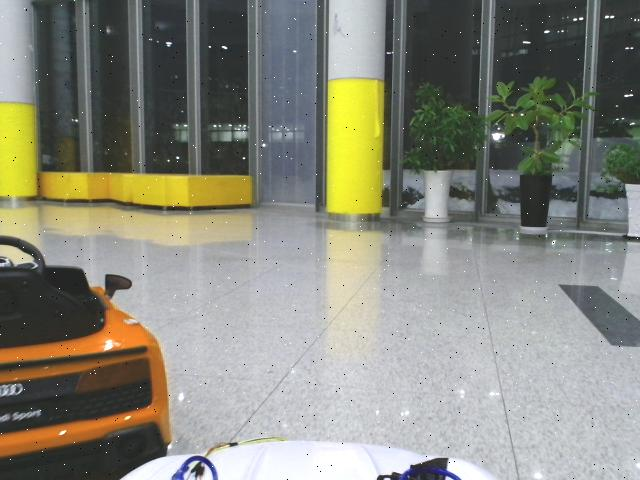car: (1, 234, 173, 471)
